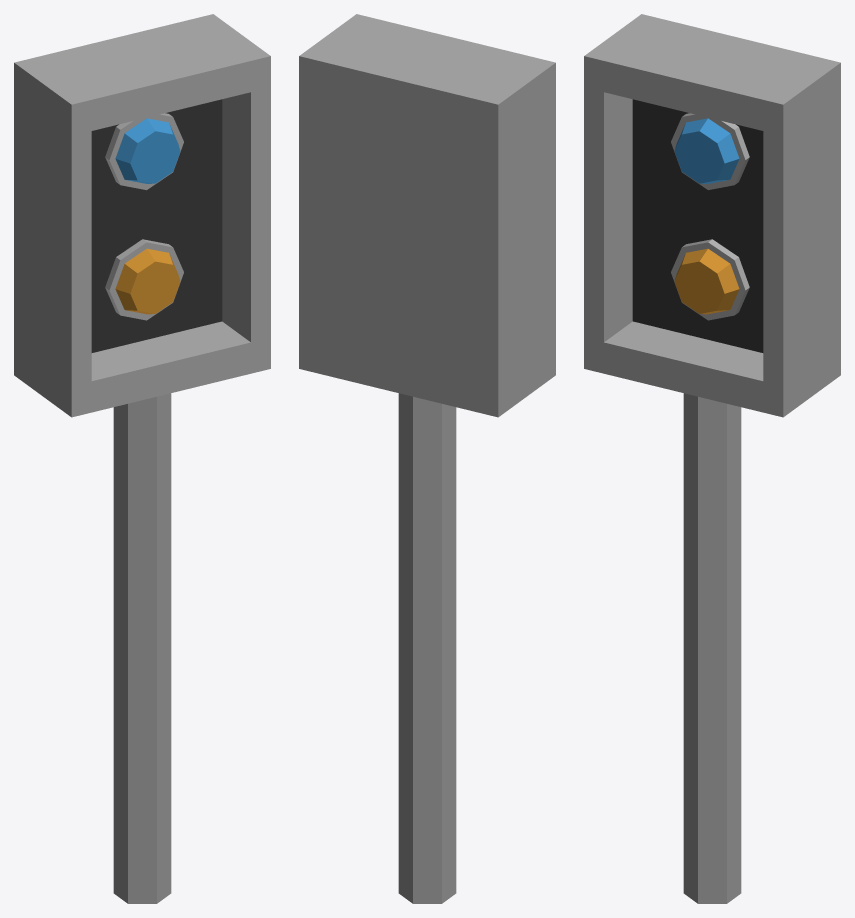
File: steampunk_panel_small.fbx
The picture shows the model from 3 angles, left to right: view 1: azimuth 30°, elevation 25°; view 2: azimuth 150°, elevation 25°; view 3: azimuth 330°, elevation 25°; orthographic projection.
Visible parts, largest first — view 1: Cube.082; view 2: Cube.082; view 3: Cube.082.
Boxes of the visible parts, x1,y1,x2,y2 form: Cube.082: (14,14,270,903); Cube.082: (299,14,555,903); Cube.082: (584,14,840,903).
Bounding box in the file's own units: 0.4 × 1.6 × 0.2.
